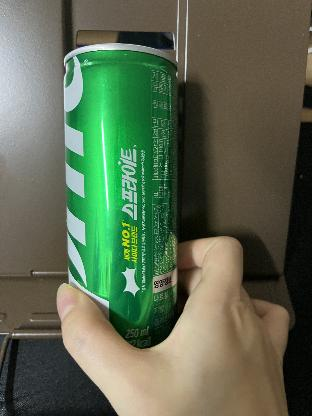Can: (61, 43, 181, 348)
